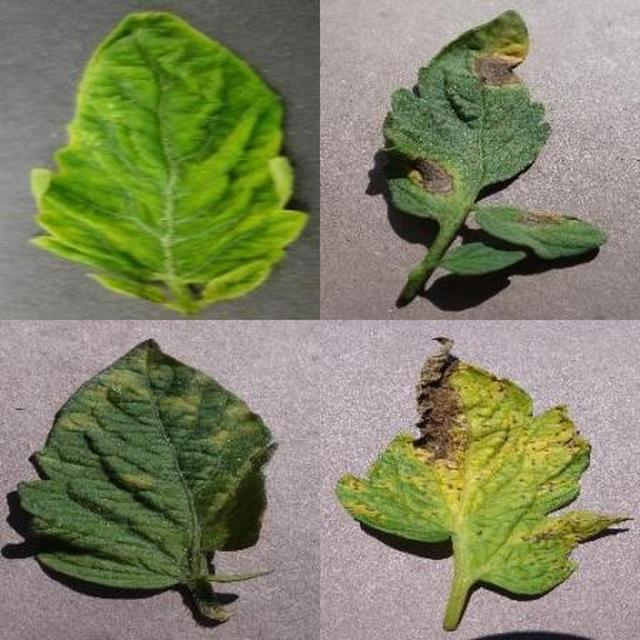Yellow Leaf Curl Virus: (209, 158, 640, 640)
